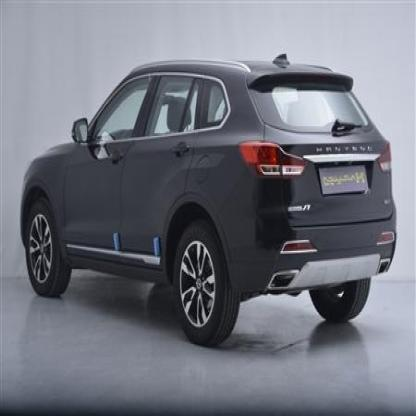Car: (13, 60, 396, 350)
